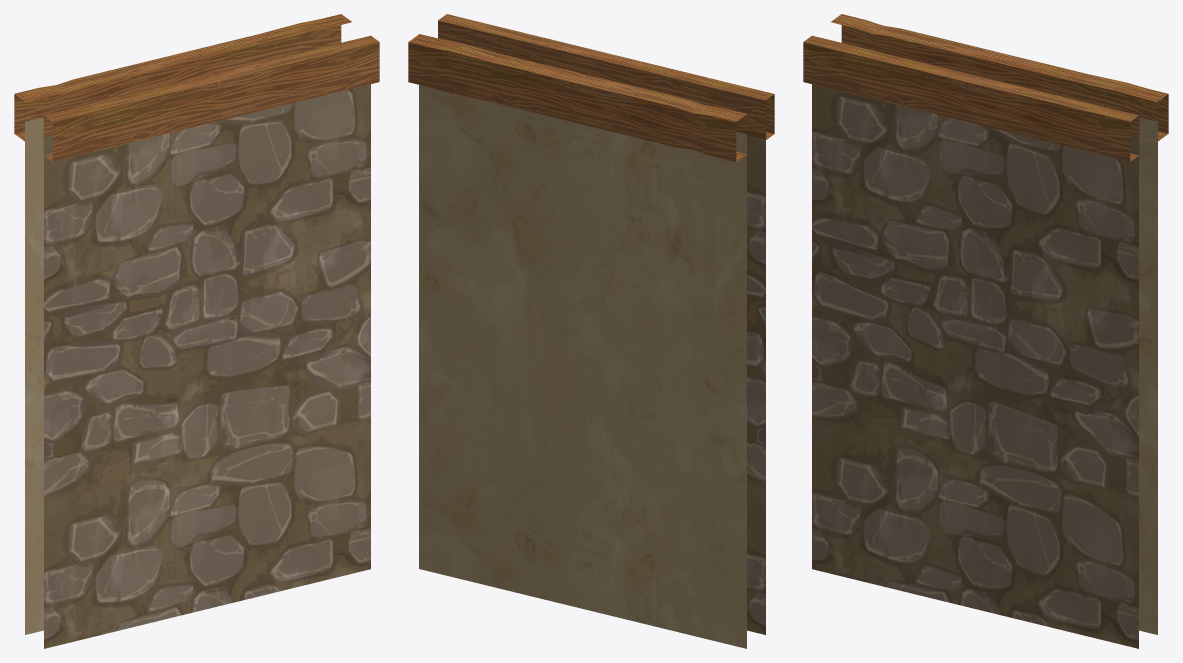
The picture shows the model from 3 angles, left to right: view 1: azimuth 30°, elevation 25°; view 2: azimuth 150°, elevation 25°; view 3: azimuth 330°, elevation 25°; orthographic projection.
Parts seen in each view (by area): view 1: 386cffd659dcf99b15c3427e1ca3d37b9e54ee49bb2412df51642a6f71af; view 2: 386cffd659dcf99b15c3427e1ca3d37b9e54ee49bb2412df51642a6f71af; view 3: 386cffd659dcf99b15c3427e1ca3d37b9e54ee49bb2412df51642a6f71af.
Part boxes in pixels (x1=…): 386cffd659dcf99b15c3427e1ca3d37b9e54ee49bb2412df51642a6f71af: x1=14, y1=14, x2=379, y2=648; 386cffd659dcf99b15c3427e1ca3d37b9e54ee49bb2412df51642a6f71af: x1=408, y1=14, x2=774, y2=648; 386cffd659dcf99b15c3427e1ca3d37b9e54ee49bb2412df51642a6f71af: x1=803, y1=14, x2=1168, y2=648.
Bounding box in the file's own units: 2 × 3.12 × 0.4065.
Materials: 3 (3 with a texture image).
